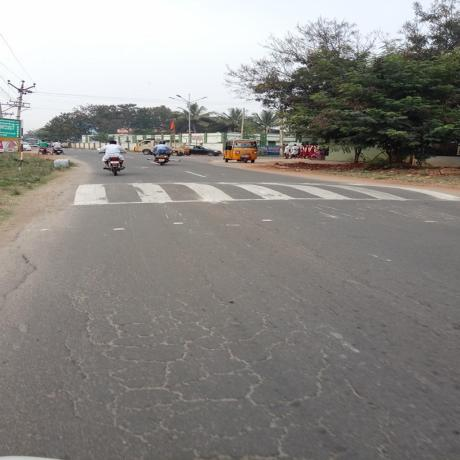Speed Bump: (71, 180, 459, 203)
